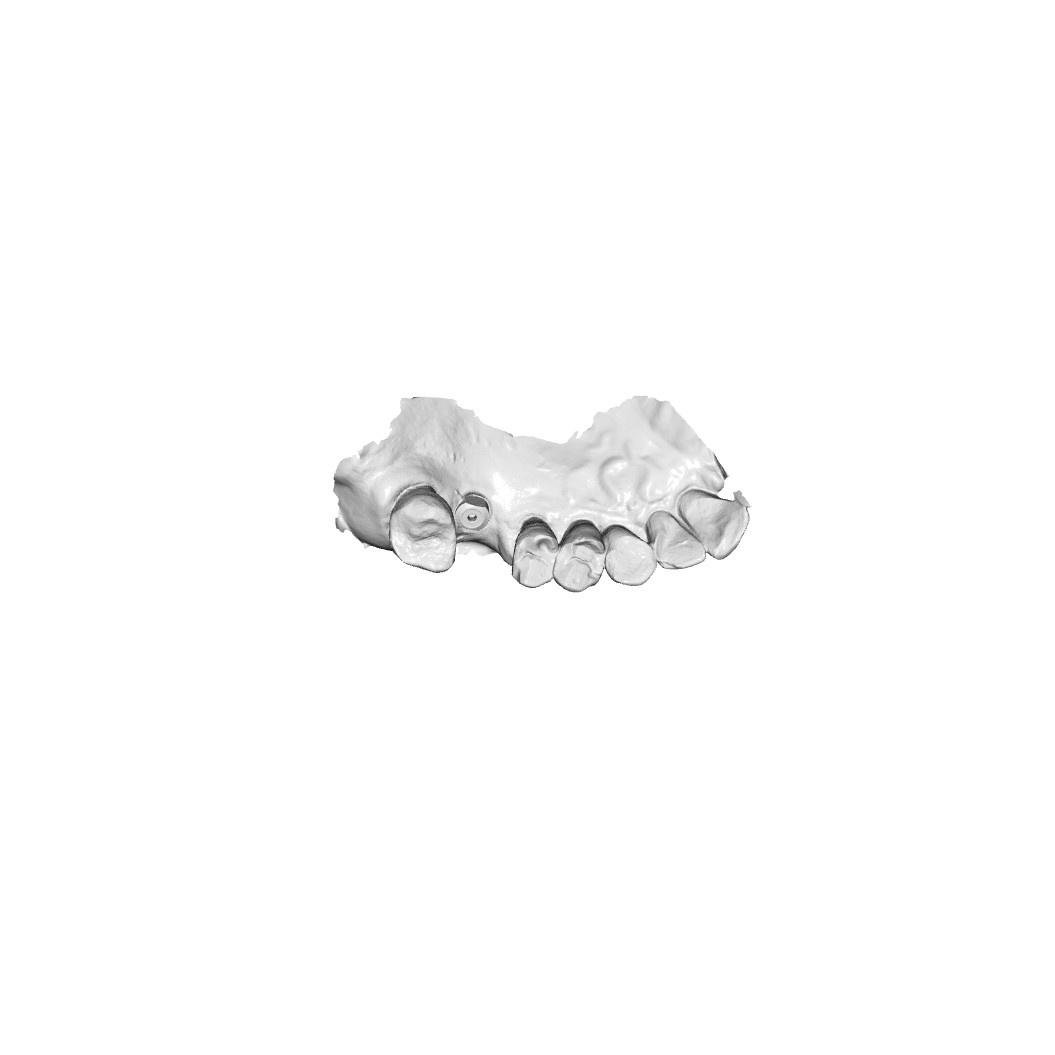canine: (600, 525, 654, 588)
implant: (454, 491, 489, 534)
incisor: (685, 492, 747, 556), (649, 510, 704, 569)
molar: (386, 490, 457, 577)
premolar: (505, 523, 558, 590), (552, 529, 603, 595)
